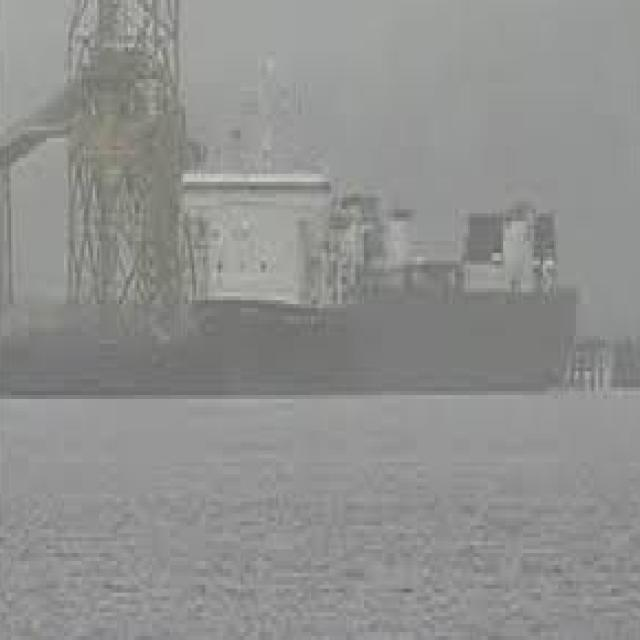cargoship: (0, 134, 576, 391)
